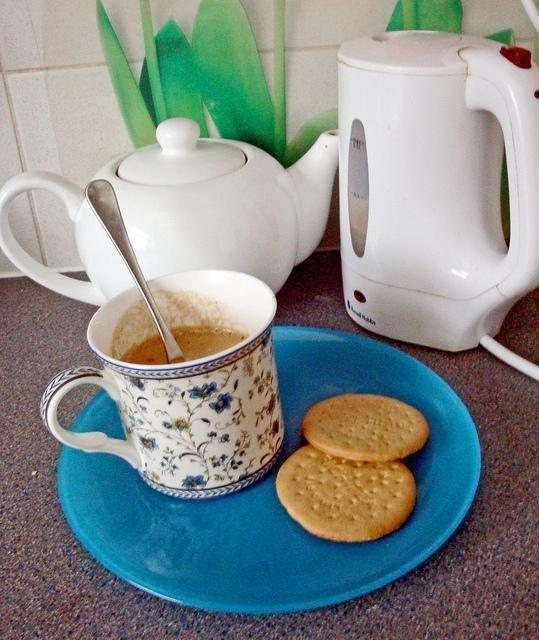cup-handle: (39, 268, 288, 499)
